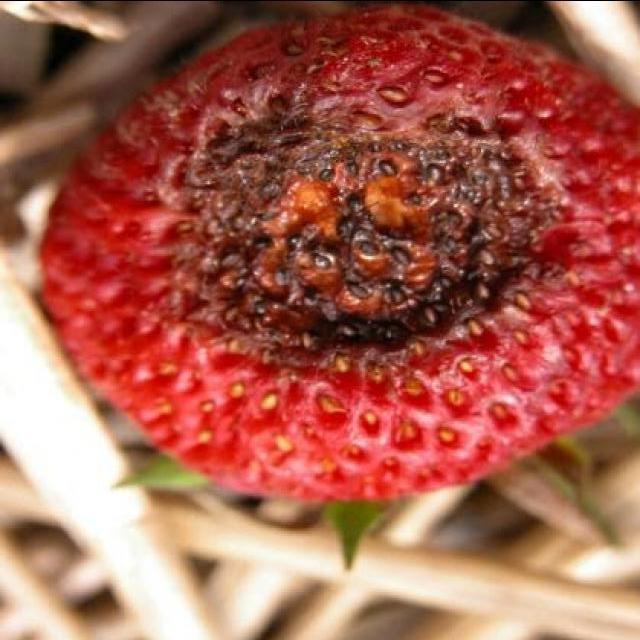Anthracnose Fruit Rot: (38, 1, 640, 508)
